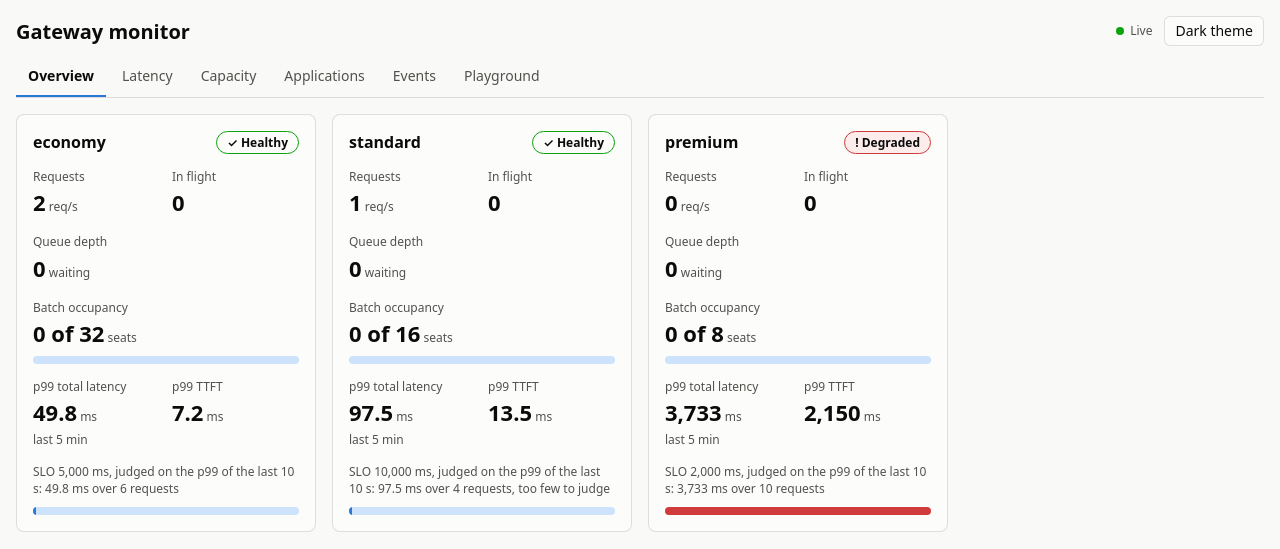
Test: Applications tab › flags an application that has used up its budget
The width and height of the screenshot is (1280, 549).
Click the tab "Applications".
click(325, 77)  # box [272,58,377,97]
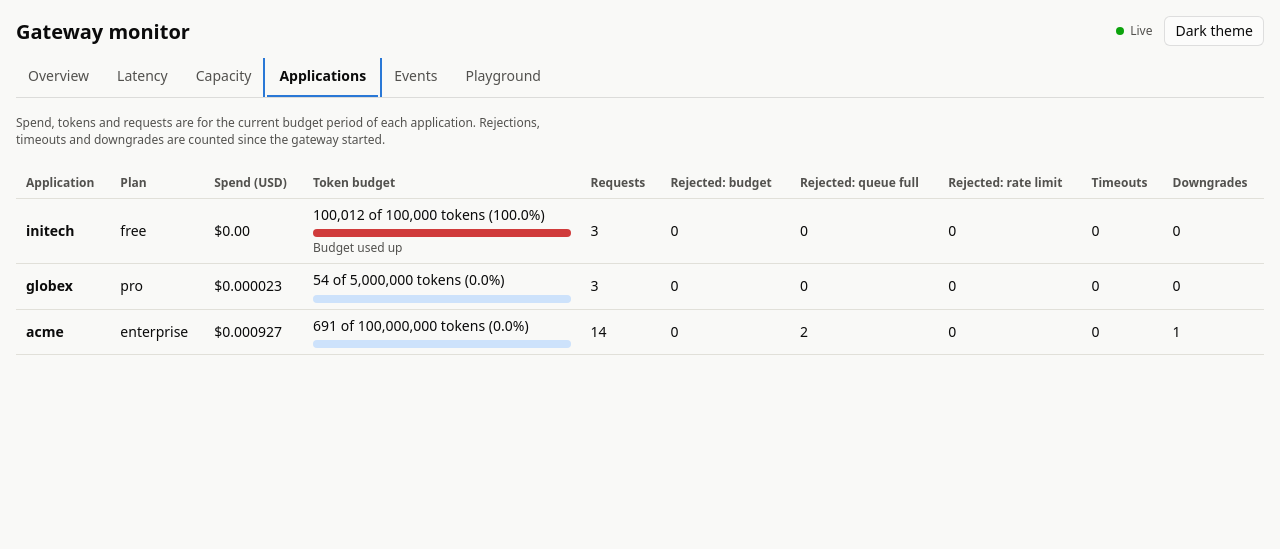
Expected: the text "Budget used up" is shown, [313,239,402,256]
